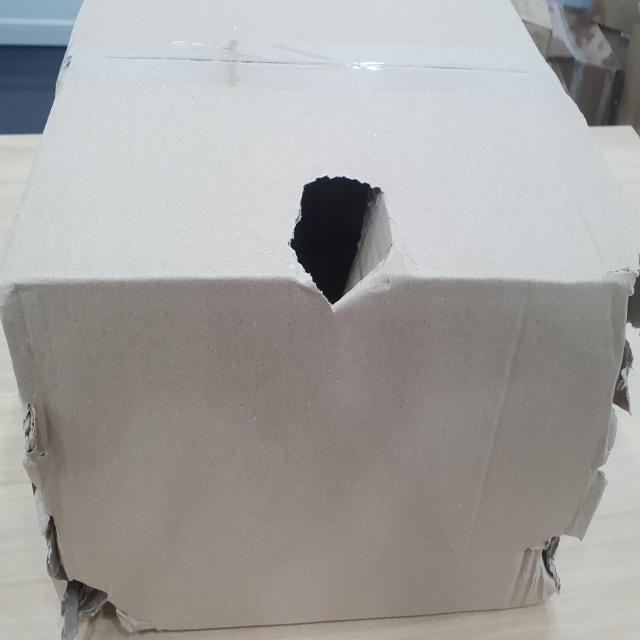damaged: (283, 161, 397, 315), (42, 519, 128, 633), (532, 519, 582, 594), (603, 302, 633, 419)
